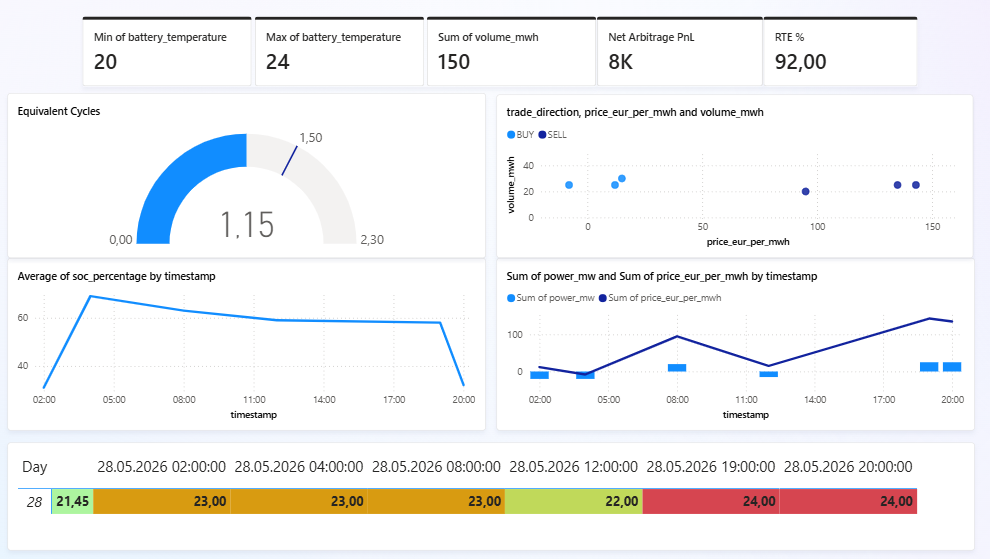

What the dashboard file says about the page in this screenshot:
{"tool":"powerbi","page":{"name":"Page 1","canvas":[1280,720],"ordinal":0},"visuals":[{"type":"cardVisual","fields":{"Data":["battery_telemetry.Net Arbitrage PnL"]},"box":[795.6,35.9,209.8,88.8],"z":0},{"type":"cardVisual","fields":{"Data":["battery_telemetry.RTE %"]},"box":[1005.4,35.9,194.6,88.8],"z":1000},{"type":"lineChart","fields":{"Category":["trades_data.timestamp"],"Y":["Avg(battery_telemetry.soc_percentage)"]},"box":[24.6,332.6,602.8,217.3],"z":2000},{"type":"lineStackedColumnComboChart","fields":{"Y":["Sum(battery_telemetry.power_mw)"],"Y2":["Sum(trades_data.price_eur_per_mwh)"],"Category":["trades_data.timestamp"]},"box":[640.6,332.6,602.8,217.3],"z":3000},{"type":"scatterChart","fields":{"X":["trades_data.price_eur_per_mwh"],"Y":["trades_data.volume_mwh"],"Series":["trades_data.trade_direction"]},"box":[642.5,124.7,600.9,192.8],"z":4000},{"type":"pivotTable","fields":{"Rows":["battery_telemetry.timestamp.Variation.Date Hierarchy.Day"],"Columns":["trades_data.timestamp"],"Values":["Avg(battery_telemetry.battery_temperature)"]},"box":[24.6,565,1218.9,136.1],"z":4001},{"type":"gauge","fields":{"Y":["battery_telemetry.Equivalent Cycles"]},"box":[24.6,122.8,602.8,194.6],"z":4002},{"type":"cardVisual","fields":{"Data":["Min(battery_telemetry.battery_temperature)","Max(battery_telemetry.battery_temperature)1","Sum(trades_data.volume_mwh)"]},"box":[147.4,35.9,648.2,88.8],"z":4003}]}

Visuals, with their boxes in screenshot pixels (x1, y1, x2, y2), scaled from the page's 1280x720 canvas onto the 990x559 screenshot:
cardVisual - battery_telemetry.Net Arbitrage PnL: [left=615, top=28, right=778, bottom=97]
cardVisual - battery_telemetry.RTE %: [left=778, top=28, right=928, bottom=97]
lineChart - trades_data.timestamp x Avg(battery_telemetry.soc_percentage): [left=19, top=258, right=485, bottom=427]
lineStackedColumnComboChart - Sum(battery_telemetry.power_mw) x Sum(trades_data.price_eur_per_mwh): [left=495, top=258, right=962, bottom=427]
scatterChart - trades_data.price_eur_per_mwh x trades_data.volume_mwh: [left=497, top=97, right=962, bottom=247]
pivotTable - battery_telemetry.timestamp.Variation.Date Hierarchy.Day x trades_data.timestamp: [left=19, top=439, right=962, bottom=544]
gauge - battery_telemetry.Equivalent Cycles: [left=19, top=95, right=485, bottom=246]
cardVisual - Min(battery_telemetry.battery_temperature) x Max(battery_telemetry.battery_temperature)1: [left=114, top=28, right=615, bottom=97]
